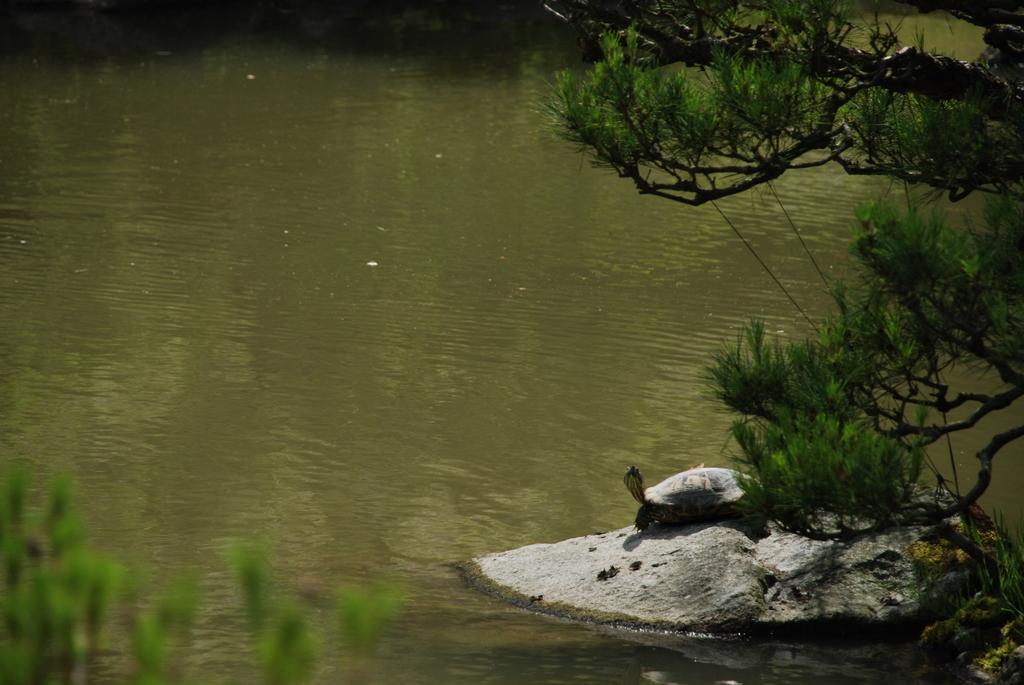Sea turtles: (622, 462, 768, 532)
